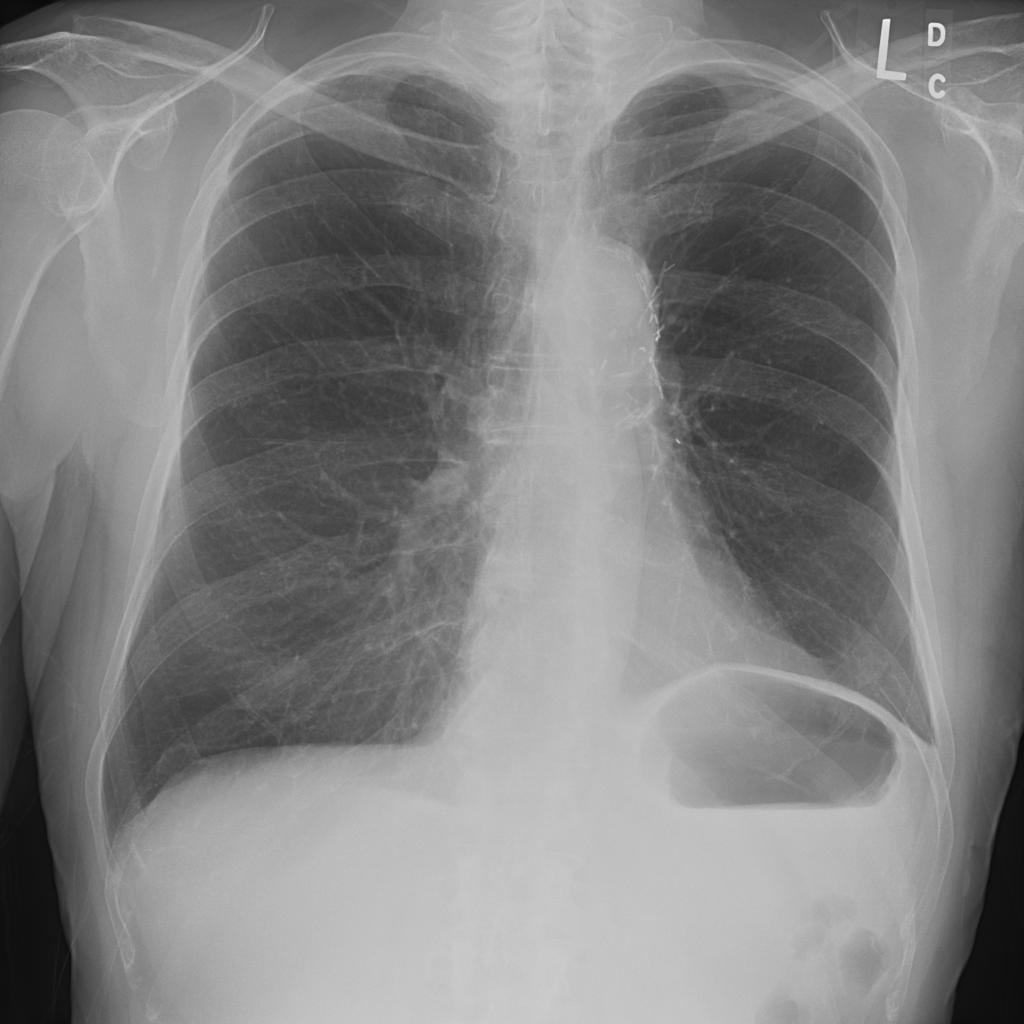Nodule: (122, 319, 168, 363), (98, 84, 132, 121)
